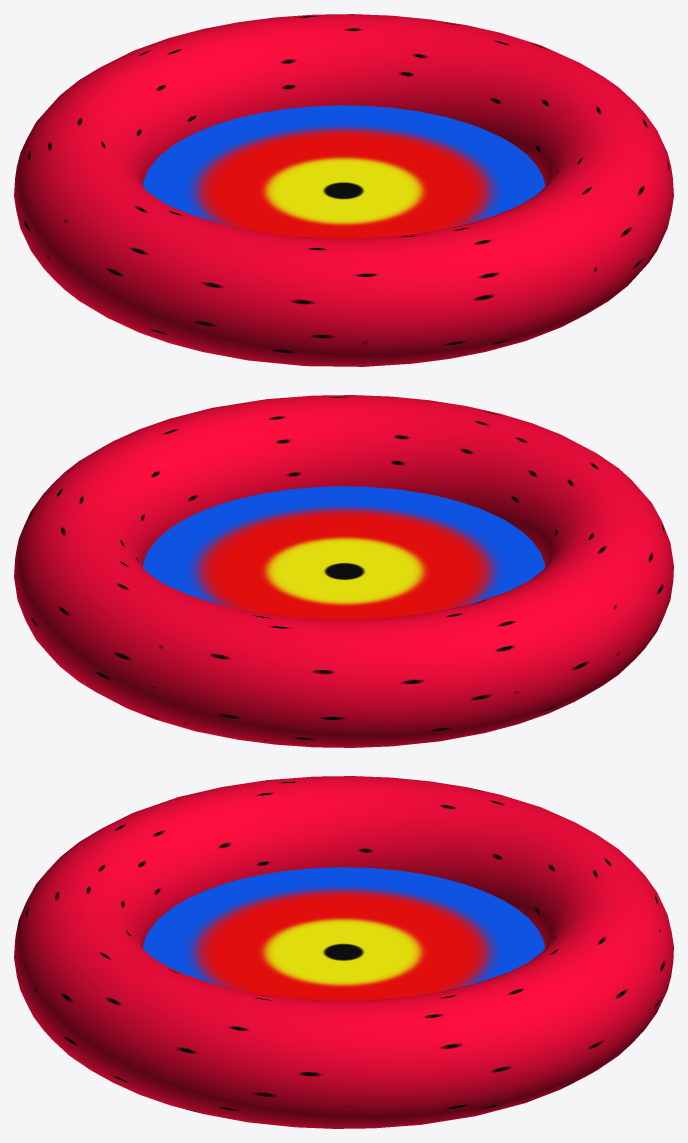
The model's file is TorusAimMesh.fbx.
3 renders of one model, top to bottom at view 1: azimuth 30°, elevation 25°; view 2: azimuth 150°, elevation 25°; view 3: azimuth 270°, elevation 25°, orthographic.
Visible parts, largest first — view 1: Torus; view 2: Torus; view 3: Torus.
Part boxes in pixels (bbox=[...]): Torus: bbox=[14, 14, 673, 366]; Torus: bbox=[14, 395, 673, 747]; Torus: bbox=[14, 776, 673, 1128].
Bounding box in the file's own units: 2.48 × 0.4833 × 2.48.
2 materials, 2 textured.
